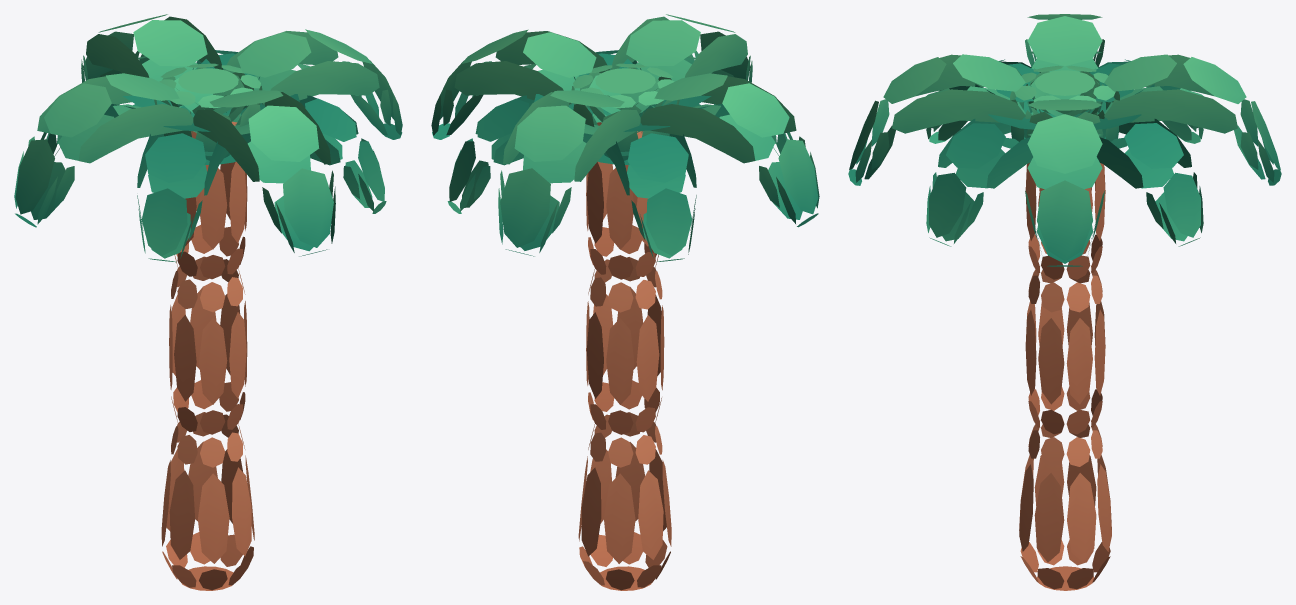
Rendered from palm-detailed-straight.glb.
3 renders of one model, left to right at view 1: azimuth 30°, elevation 25°; view 2: azimuth 150°, elevation 25°; view 3: azimuth 270°, elevation 25°, orthographic.
Visible parts, largest first — view 1: palm-detailed-straight; view 2: palm-detailed-straight; view 3: palm-detailed-straight.
Boxes of the visible parts, bbox=[...] form: palm-detailed-straight: bbox=[14, 14, 402, 590]; palm-detailed-straight: bbox=[431, 14, 819, 590]; palm-detailed-straight: bbox=[848, 14, 1281, 590].
Size of the model in its own units: 3.21 by 4.21 by 3.21.
1 material, 1 textured.
